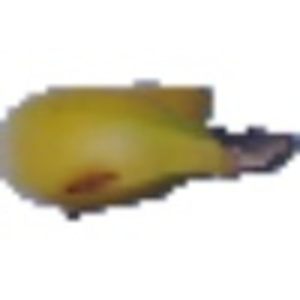banana: (2, 77, 294, 205)
